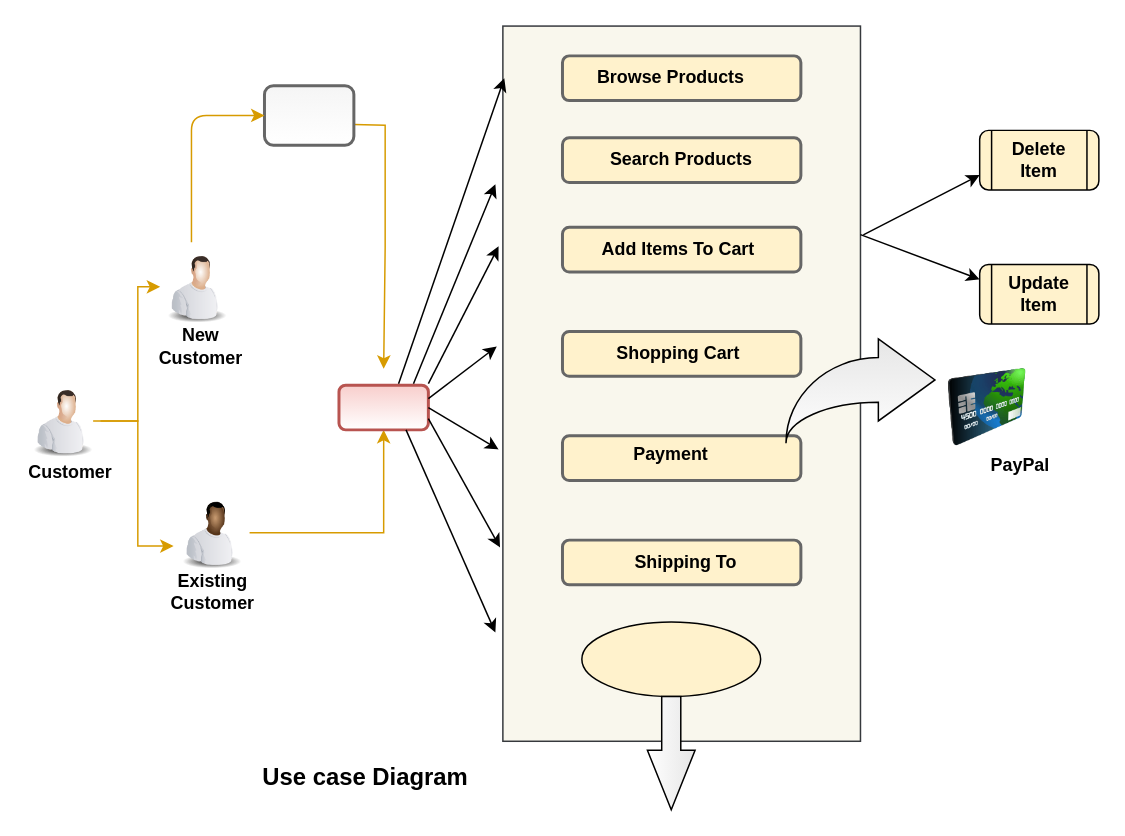
Image size: 1125x836. Some labels were removed from this diagram. Here are the shapes that lost their labels. From the top down, the centre of each, then its label:
(x=308, y=114): Register
(x=383, y=407): Login
(x=670, y=659): Logout
